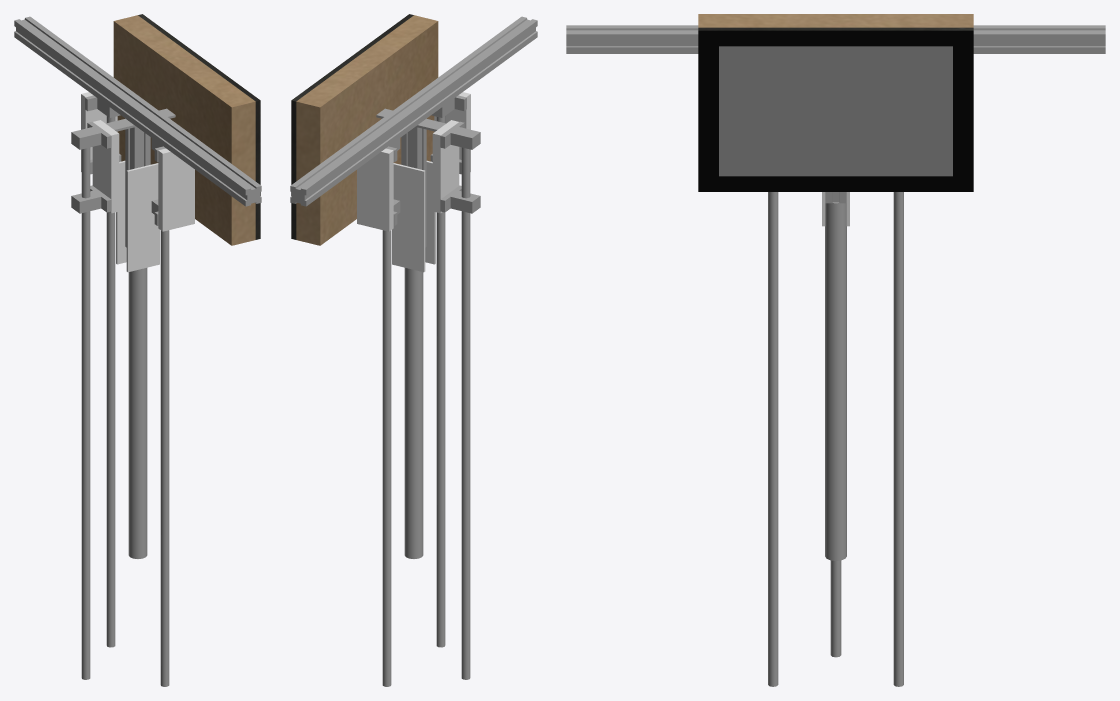
File: Torso_ROBOTINO_B.dae
3 renders of one model, left to right at view 1: azimuth 30°, elevation 25°; view 2: azimuth 150°, elevation 25°; view 3: azimuth 270°, elevation 25°, orthographic. The views are drawn at different scales.
Parts seen in each view (by area): view 1: Torso_low_poly; view 2: Torso_low_poly; view 3: Torso_low_poly.
Boxes of the visible parts, x1,y1,x2,y2 form: Torso_low_poly: [14, 14, 261, 686]; Torso_low_poly: [290, 14, 537, 686]; Torso_low_poly: [566, 14, 1105, 686].
Size of the model in its own units: 0.1571 by 0.5 by 0.7063.
Materials: 5 (1 with a texture image).
